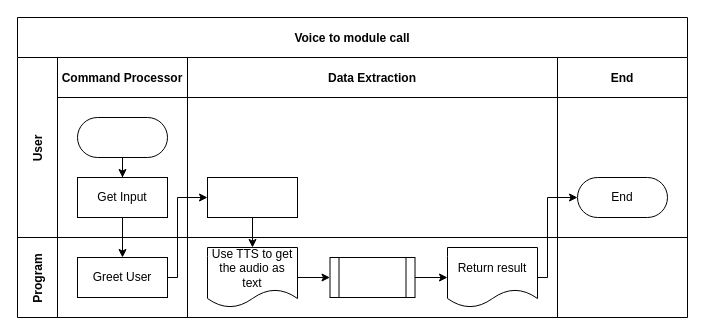
This 705x335 diagram has some shape labels left out. The shapes that lost their labels are listed below. From the top down, each one's centre as x and y in pixels, then its label:
At (122,137): "Start".
At (252,197): "Request something".
At (372,277): "Send request to submodule".
